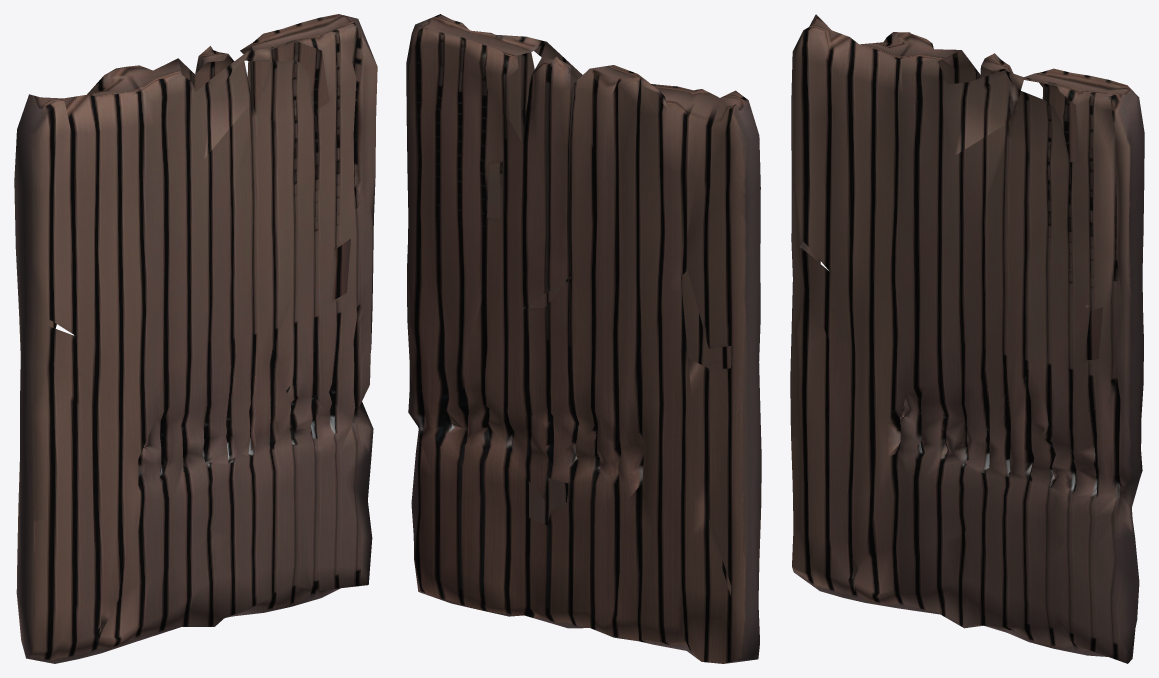
File: Fencefbx.fbx
3 renders of one model, left to right at view 1: azimuth 30°, elevation 25°; view 2: azimuth 150°, elevation 25°; view 3: azimuth 330°, elevation 25°, orthographic.
Parts seen in each view (by area): view 1: Fence; view 2: Fence; view 3: Fence.
Part boxes in pixels (x1,y1,x2,y2): Fence: (14, 14, 377, 663); Fence: (406, 14, 761, 663); Fence: (790, 14, 1144, 663).
Size of the model in its own units: 44.94 by 70.81 by 5.62.
Materials: 1 (1 with a texture image).
